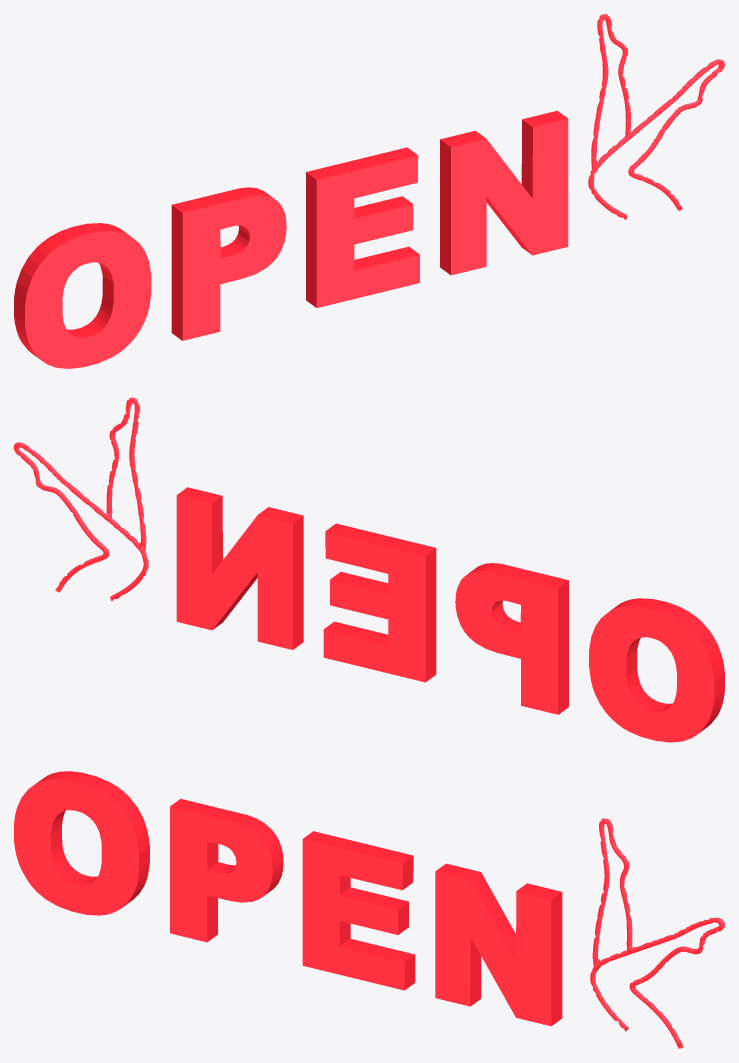
The model's file is neon_club_open.glb.
3 views of the same model, one above another, from view 1: azimuth 30°, elevation 25°; view 2: azimuth 150°, elevation 25°; view 3: azimuth 330°, elevation 25° (orthographic).
Visible parts, largest first — view 1: club_open; view 2: club_open; view 3: club_open.
Boxes of the visible parts, bbox=[...] form: club_open: bbox=[14, 14, 724, 368]; club_open: bbox=[14, 397, 724, 742]; club_open: bbox=[14, 771, 724, 1048].
Size of the model in its own units: 3 by 0.8753 by 0.0812.
